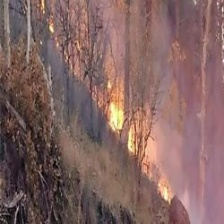fire: (61, 44, 186, 201)
